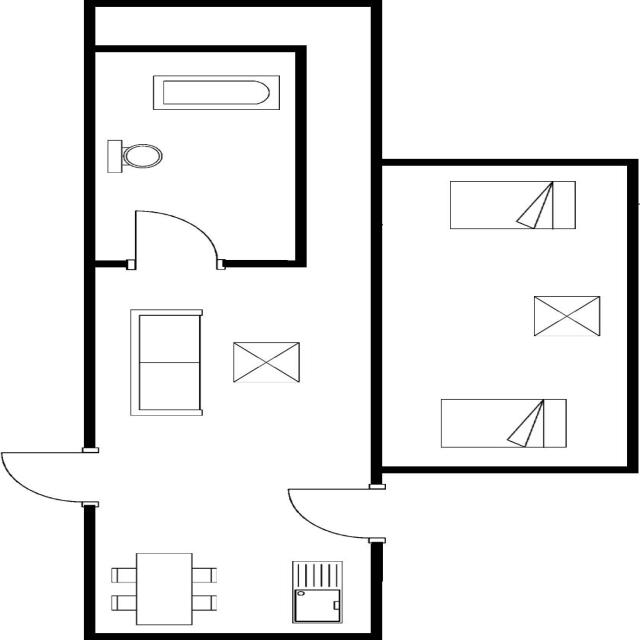bed: (445, 177, 581, 233), (436, 395, 570, 450)
coffee_table: (527, 291, 606, 340), (227, 338, 304, 386)
dining_table: (106, 549, 224, 628)
large_sink: (103, 136, 166, 176)
large_sofa: (122, 305, 208, 418)
sink: (284, 557, 349, 627)
tub: (145, 72, 286, 114)
